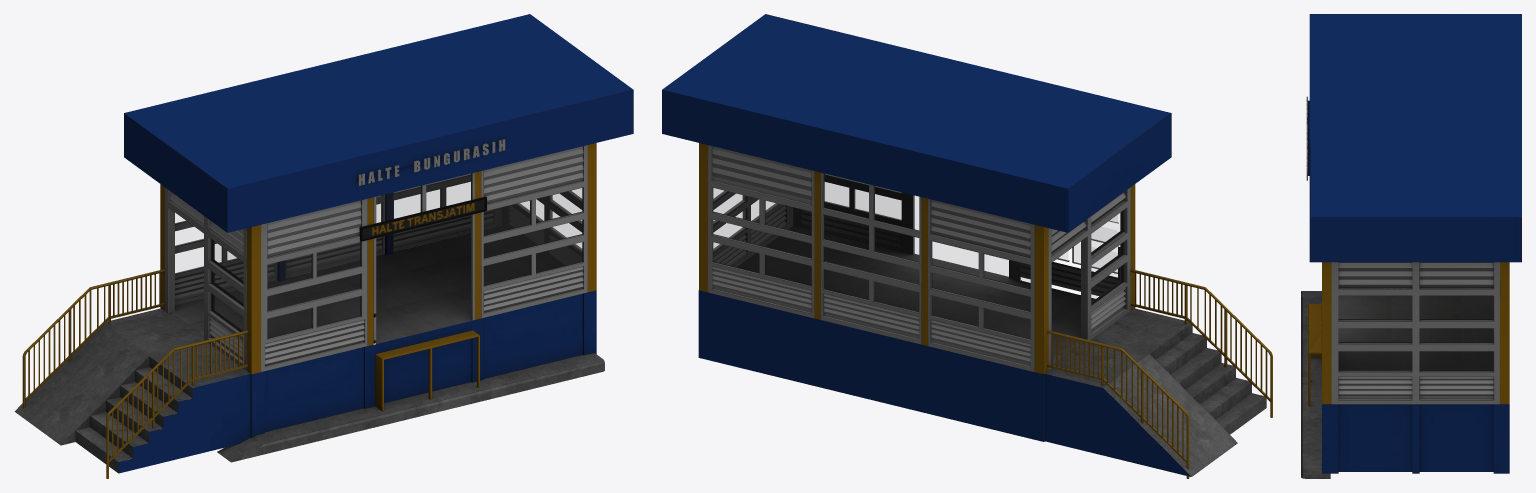
Rendered from haltebungurasih.glb.
The picture shows the model from 3 angles, left to right: view 1: azimuth 30°, elevation 25°; view 2: azimuth 150°, elevation 25°; view 3: azimuth 270°, elevation 25°; orthographic projection. The views are drawn at different scales.
Visible parts, largest first — view 1: piece_1, piece_9, piece_0, piece_11, piece_10, piece_3, piece_5, piece_13, piece_2, piece_4, piece_14, piece_7 (+1 smaller); view 2: piece_1, piece_9, piece_0, piece_11, piece_10, piece_5, piece_13, piece_2; view 3: piece_1, piece_9, piece_10, piece_0, piece_3, piece_13, piece_4.
Boxes of the visible parts, bbox=[...] form: piece_1: bbox=[118, 14, 633, 473]; piece_9: bbox=[165, 145, 587, 371]; piece_0: bbox=[169, 146, 583, 365]; piece_11: bbox=[14, 308, 250, 473]; piece_10: bbox=[172, 225, 558, 343]; piece_3: bbox=[217, 353, 604, 462]; piece_5: bbox=[22, 269, 248, 478]; piece_13: bbox=[160, 143, 596, 374]; piece_2: bbox=[214, 174, 582, 263]; piece_4: bbox=[375, 330, 479, 411]; piece_14: bbox=[362, 199, 484, 239]; piece_7: bbox=[358, 139, 505, 185]; piece_1: bbox=[662, 14, 1190, 476]; piece_9: bbox=[708, 145, 1130, 371]; piece_0: bbox=[712, 146, 1125, 366]; piece_11: bbox=[1045, 308, 1266, 476]; piece_10: bbox=[737, 225, 1095, 364]; piece_5: bbox=[1047, 269, 1272, 478]; piece_13: bbox=[699, 143, 1135, 374]; piece_2: bbox=[713, 174, 1117, 273]; piece_1: bbox=[1309, 14, 1521, 473]; piece_9: bbox=[1331, 262, 1499, 404]; piece_10: bbox=[1338, 295, 1493, 370]; piece_0: bbox=[1338, 262, 1493, 398]; piece_3: bbox=[1301, 291, 1330, 478]; piece_13: bbox=[1322, 262, 1509, 404]; piece_4: bbox=[1308, 304, 1321, 406].
Size of the model in its own units: 17.32 by 8.57 by 6.18.
15 materials, 14 textured.
